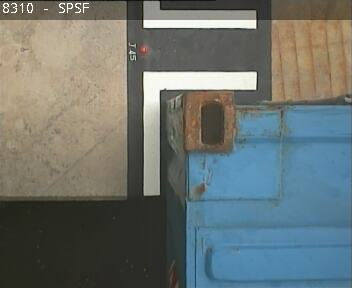groundmarker_1: (141, 1, 257, 196)
